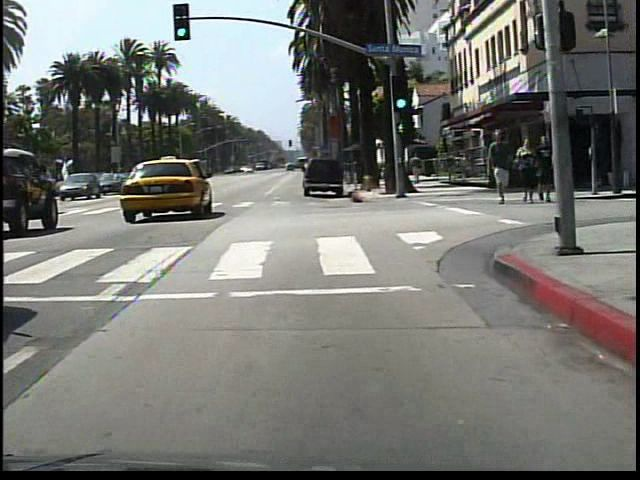person: (482, 124, 516, 209), (516, 135, 539, 206), (405, 148, 427, 189)
